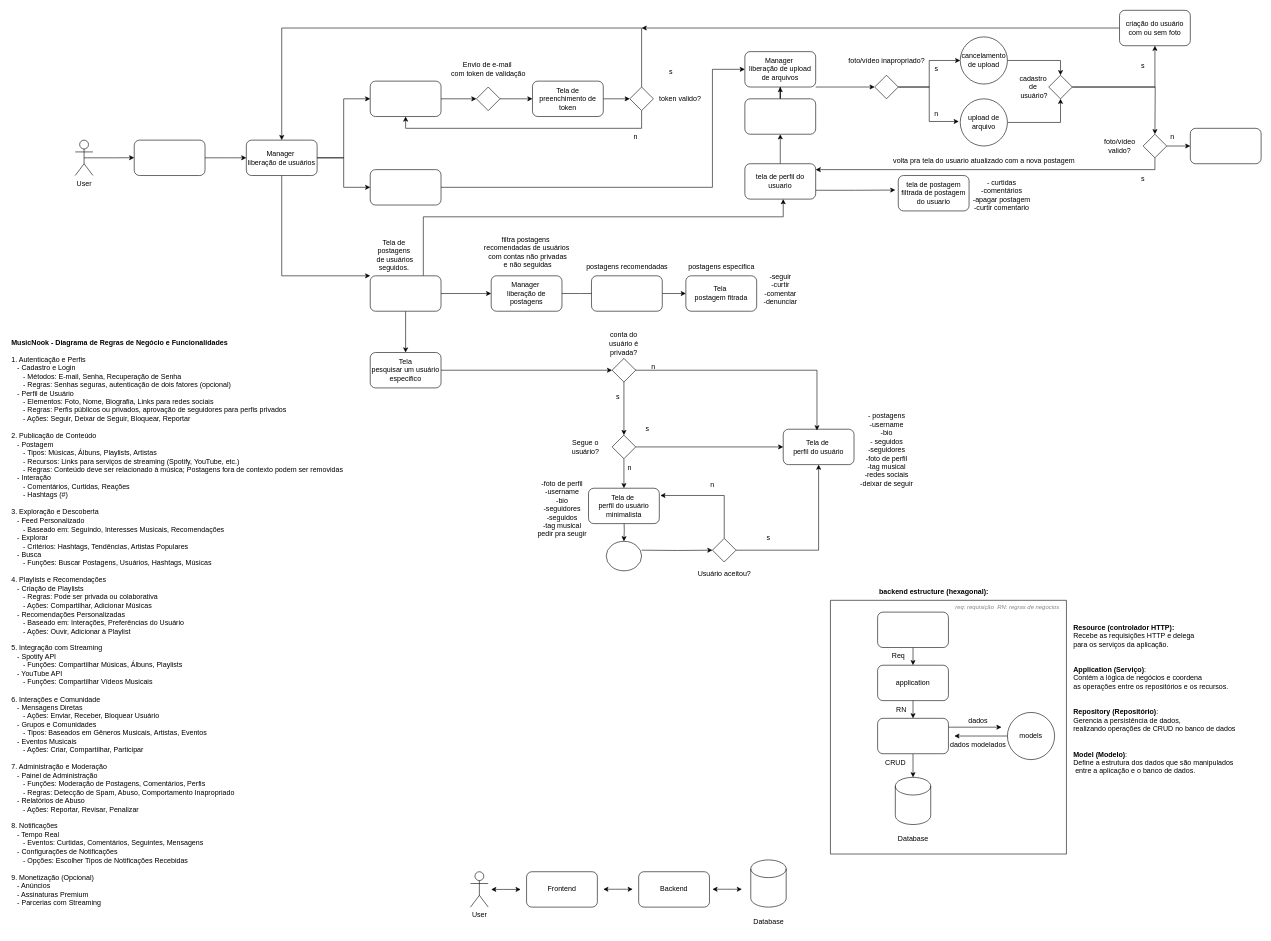
This 1271x941 diagram has some shape labels left out. Each missing label, with the centre of its shape:
App Tela Inicial: point (405, 293)
cancelamento da postagem: point (1225, 146)
pedir pra seguir: point (624, 556)
repositories: point (912, 736)
resource: point (912, 630)
Tela de autenticação do usuário.: point (169, 158)
Tela de cadastro: point (405, 187)
Tela de criar uma nova postagem: point (780, 116)
tela de esquecimento de senha: point (405, 99)
Tela de explorar: point (626, 293)
